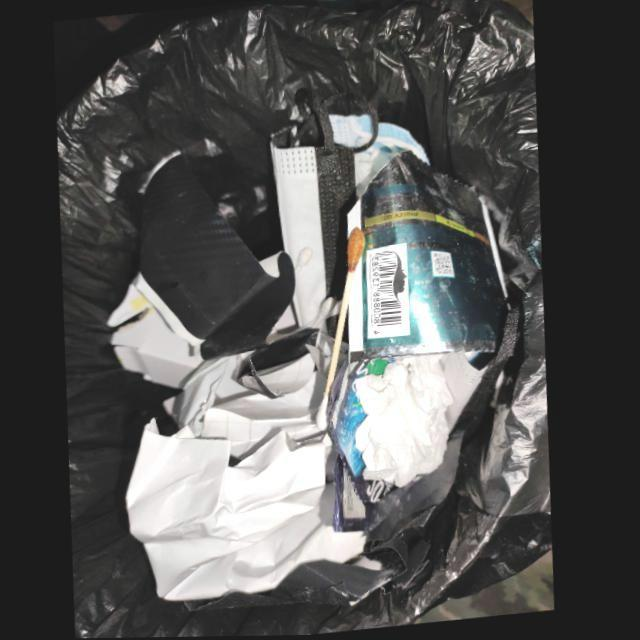cardboard: (112, 277, 205, 391)
paper: (131, 424, 370, 603), (358, 337, 502, 490), (175, 351, 320, 457)
plastic_container: (361, 154, 461, 350)
